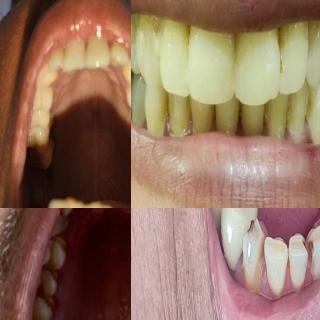cavities: (240, 223, 268, 278), (304, 236, 320, 264), (298, 237, 309, 259)
maligned: (84, 35, 108, 80), (64, 38, 85, 78)
plaque: (190, 25, 238, 100), (236, 27, 272, 102), (160, 14, 192, 90), (137, 1, 169, 66), (290, 17, 309, 77), (269, 21, 283, 78), (280, 86, 296, 134), (307, 17, 320, 72), (205, 101, 223, 133), (258, 103, 274, 137), (302, 92, 316, 128), (162, 94, 176, 130), (232, 102, 244, 138), (131, 12, 139, 59)
stains: (36, 292, 60, 320), (49, 232, 68, 267), (44, 268, 63, 294)
